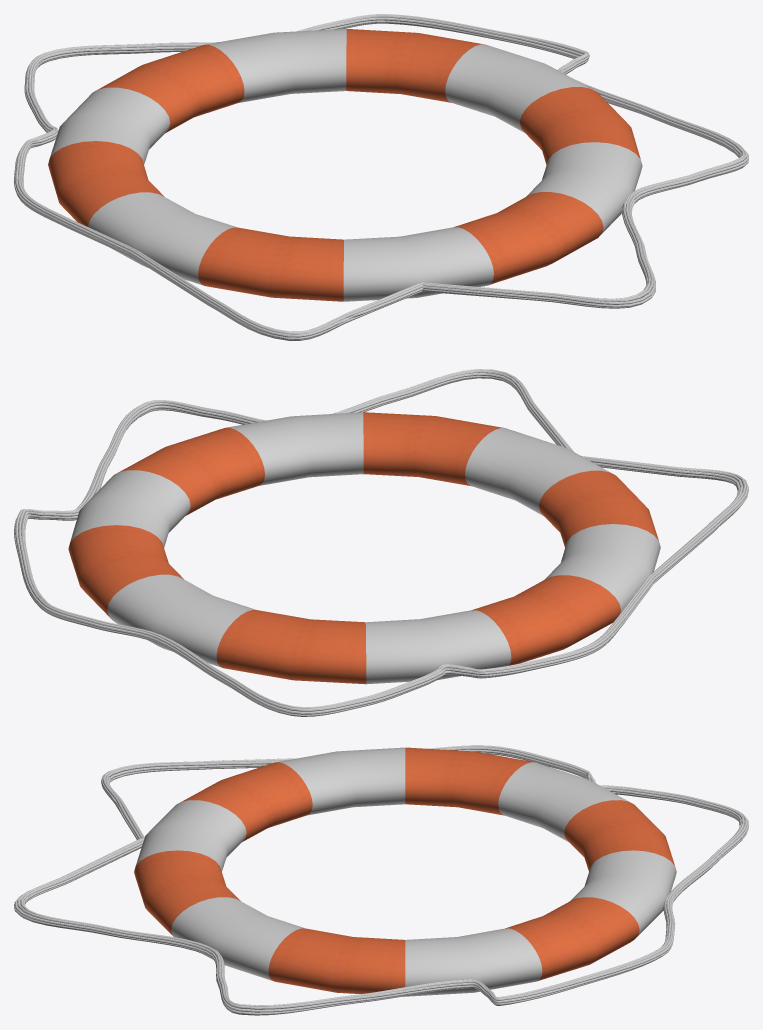
The model's file is Life_ring_01.FBX.
The picture shows the model from 3 angles, top to bottom: view 1: azimuth 30°, elevation 25°; view 2: azimuth 150°, elevation 25°; view 3: azimuth 270°, elevation 25°; orthographic projection. The views are drawn at different scales.
Visible parts, largest first — view 1: Loft001, rope; view 2: Loft001, rope; view 3: Loft001, rope.
Boxes of the visible parts, x1,y1,x2,y2 form: Loft001: (48, 29, 642, 301); rope: (14, 14, 748, 340); Loft001: (68, 412, 660, 684); rope: (14, 369, 748, 716); Loft001: (134, 747, 676, 996); rope: (14, 745, 748, 1015).
Size of the model in its own units: 33.24 by 2.54 by 39.03.
